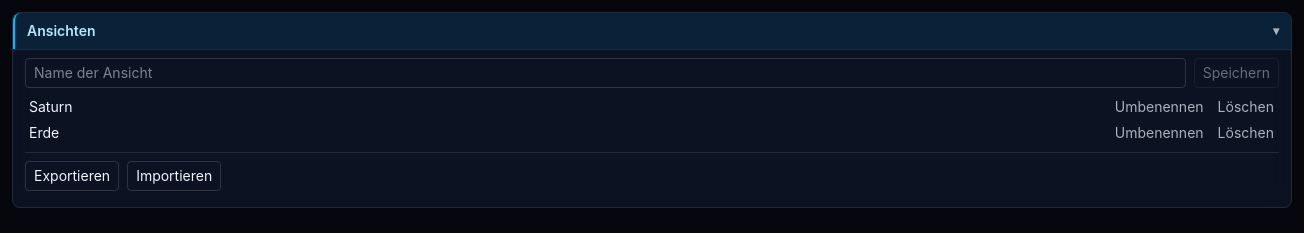
Test: AnsichtenPanel: umbenennen › bricht mit Escape ab
The image size is (1304, 233).
Click the button with aria-label "Umbenennen: Saturn" at (1159, 107), box [1110,96,1209,118]
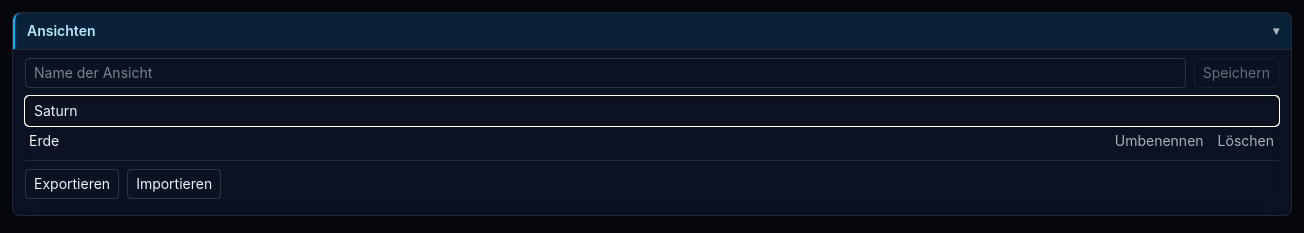
Replace the text in the field named "Neuer Name" with "Anders" at (652, 111), box [25,96,1279,126]
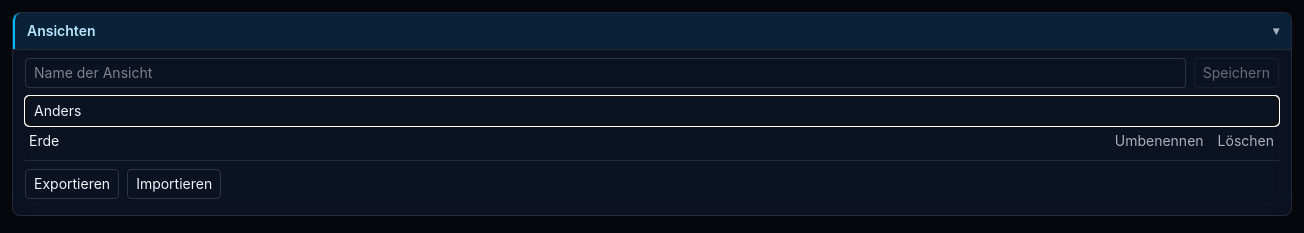
Press Escape in the field named "Neuer Name", box [25,96,1279,126]
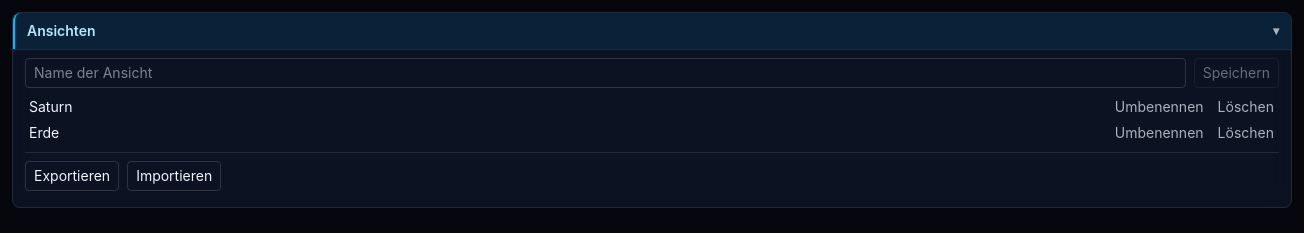
Check: the button with aria-label "Ansicht laden: Saturn" is shown, box [25,97,1106,117]
